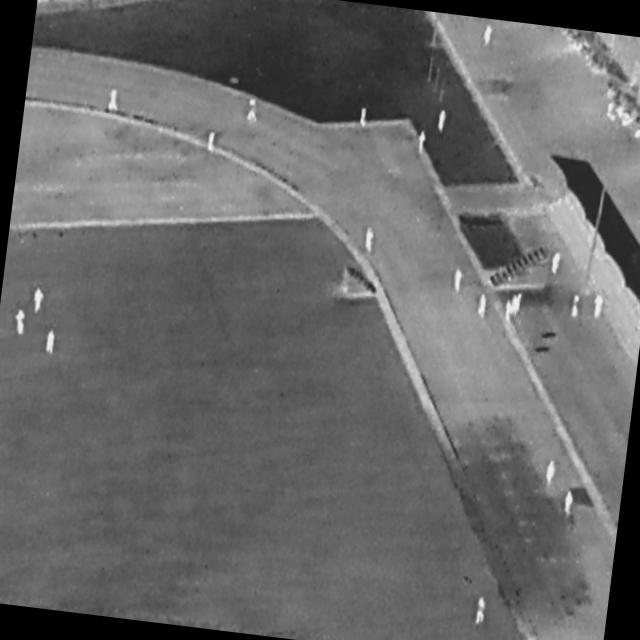person: (13, 309, 28, 336), (363, 226, 376, 255), (246, 98, 261, 123), (593, 292, 605, 322), (453, 269, 466, 295), (107, 90, 121, 114), (476, 598, 488, 626), (33, 289, 45, 315), (545, 461, 557, 487), (550, 251, 562, 277), (477, 294, 489, 320), (45, 330, 57, 355), (563, 491, 575, 516), (483, 26, 495, 49), (417, 129, 427, 156), (438, 109, 448, 134), (571, 296, 581, 319), (359, 107, 369, 129), (511, 294, 519, 317), (208, 132, 216, 153), (505, 300, 513, 321), (516, 294, 522, 314)
